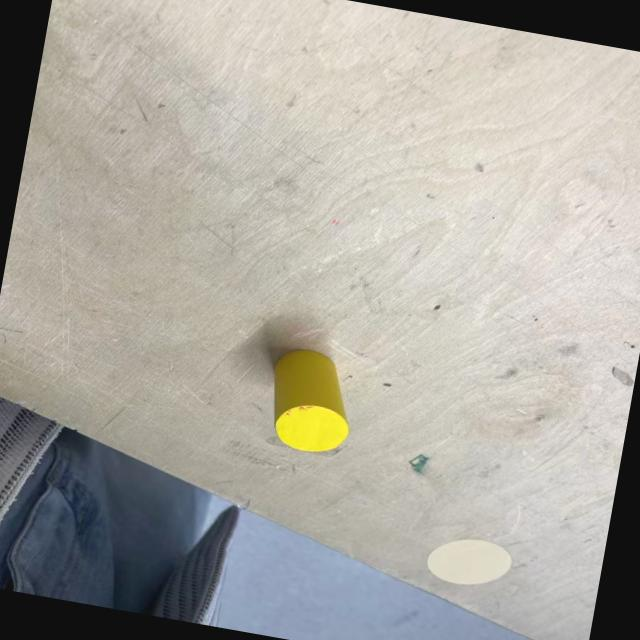yellow_cylinder: (260, 344, 362, 458)
